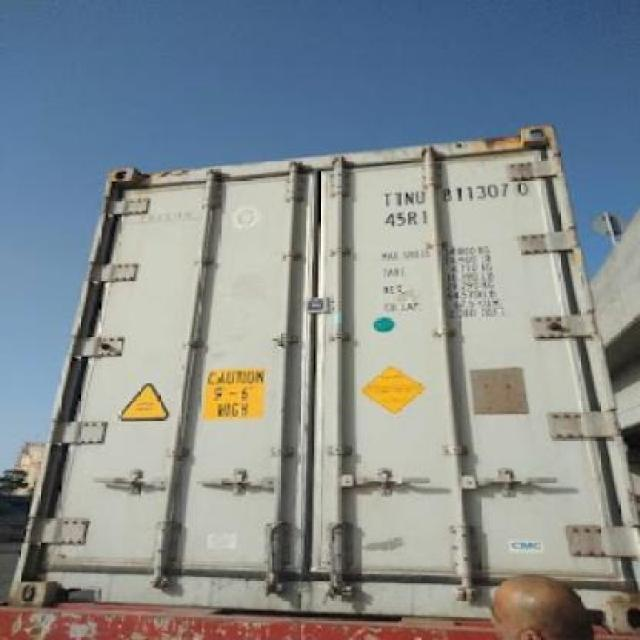ISO: (384, 210, 436, 226)
container_number: (384, 175, 534, 206)
